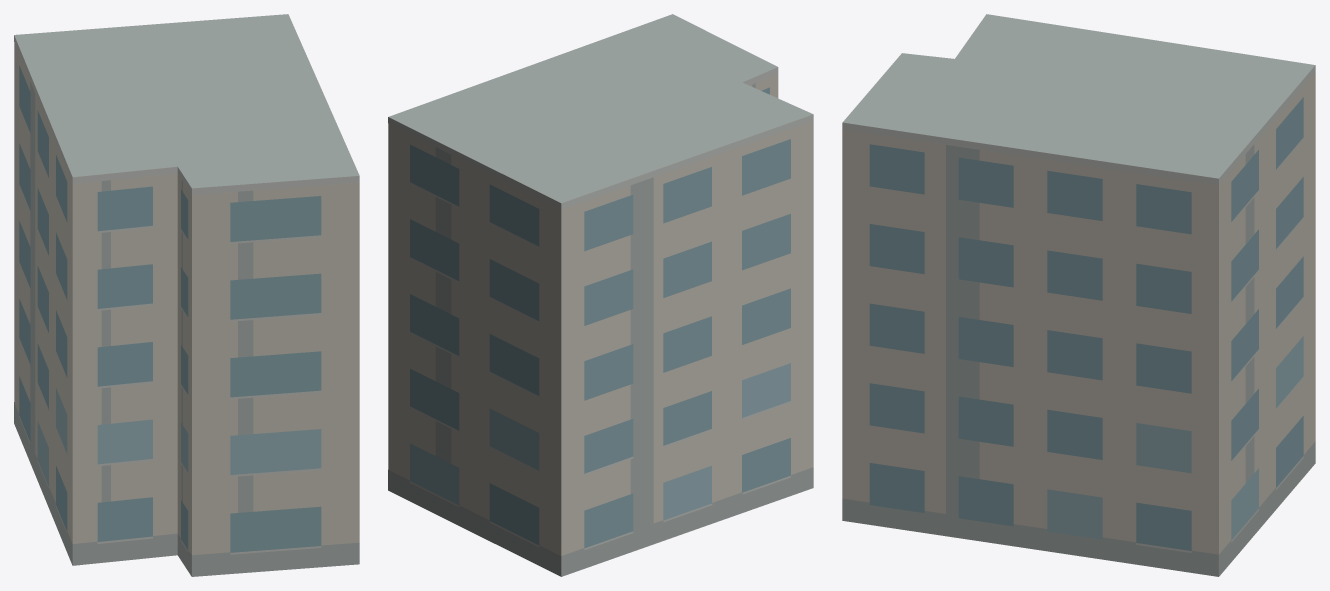
The model's file is survey-upis-32952292.glb.
The picture shows the model from 3 angles, left to right: view 1: azimuth 30°, elevation 25°; view 2: azimuth 150°, elevation 25°; view 3: azimuth 270°, elevation 25°; orthographic projection. The views are drawn at different scales.
Parts seen in each view (by area): view 1: survey-upis-32952292.tmp; view 2: survey-upis-32952292.tmp; view 3: survey-upis-32952292.tmp.
Part boxes in pixels (x1,y1,x2,y2): survey-upis-32952292.tmp: [14, 14, 359, 576]; survey-upis-32952292.tmp: [388, 14, 813, 576]; survey-upis-32952292.tmp: [842, 14, 1315, 576].
Size of the model in its own units: 12.51 by 14.1 by 15.19.
